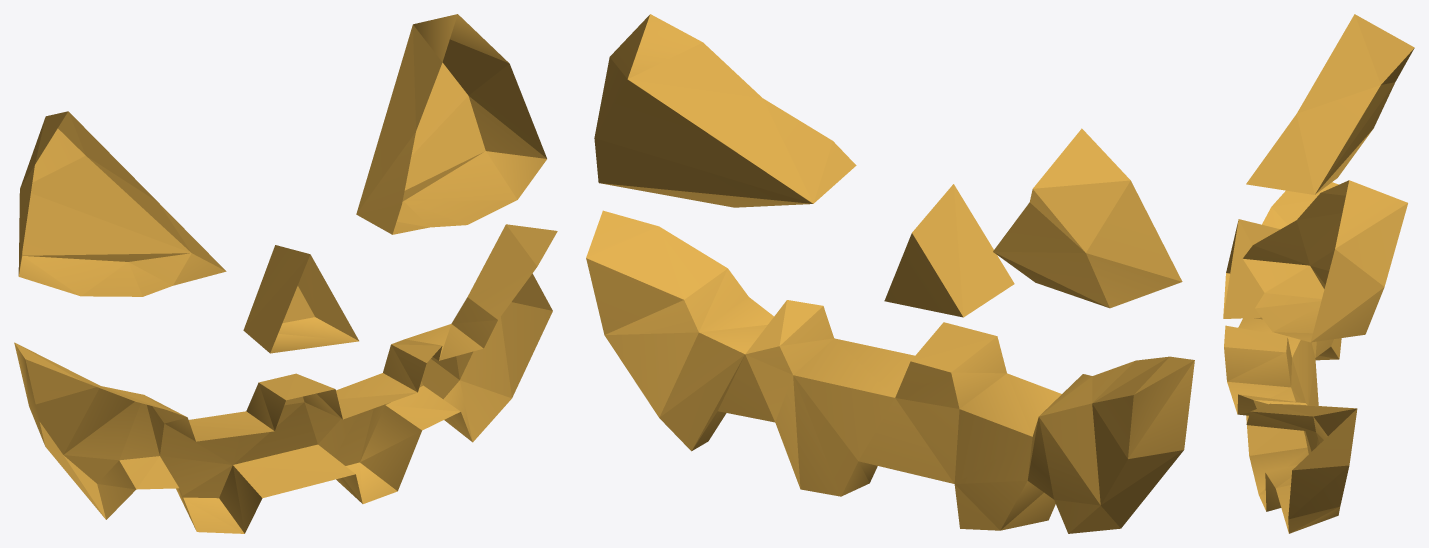
File: EVHalloween_Decor_JackOLanternGrin_Glow.fbx
3 views of the same model, side by side, from view 1: azimuth 30°, elevation 25°; view 2: azimuth 150°, elevation 25°; view 3: azimuth 270°, elevation 25° (orthographic). The views are drawn at different scales.
Parts seen in each view (by area): view 1: EVHalloween_Decor_PumpkinOrange; view 2: EVHalloween_Decor_PumpkinOrange; view 3: EVHalloween_Decor_PumpkinOrange.
Part boxes in pixels (x1,y1,x2,y2): EVHalloween_Decor_PumpkinOrange: (14,14,557,533); EVHalloween_Decor_PumpkinOrange: (586,14,1194,533); EVHalloween_Decor_PumpkinOrange: (1223,14,1414,533).
Bounding box in the file's own units: 18.69 × 14.15 × 6.47.
